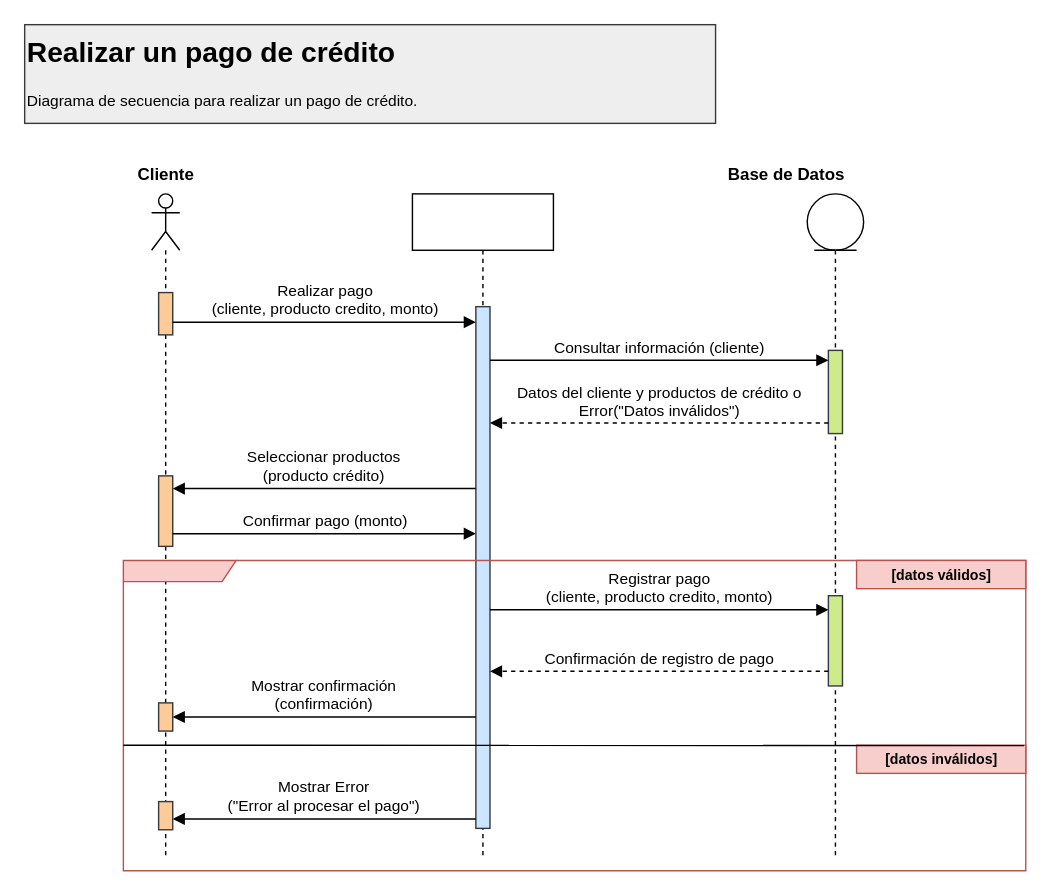
Some shapes in this 1050 by 895 pixel diagram are drawn without their labels. Here are the shapes that lost their labels. From the top down, the box of each, then its label:
(411, 192, 553, 857): Sistema Bancario
(122, 559, 1026, 871): alt
